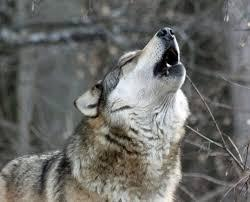Wolf: (0, 25, 193, 202)
